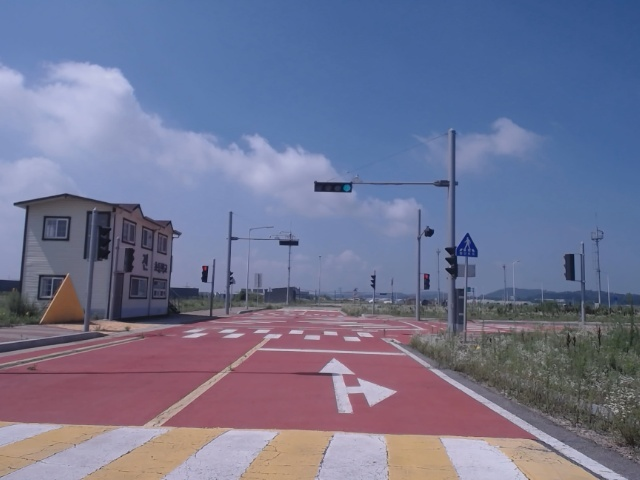straight_green_4: (313, 184, 353, 193)
